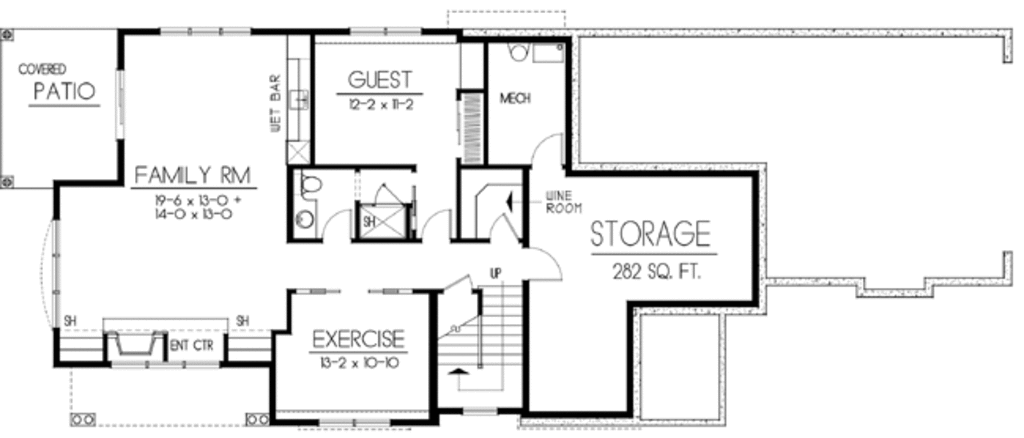door: (525, 242, 565, 283), (321, 208, 360, 243), (527, 131, 563, 167), (421, 207, 455, 241), (487, 213, 520, 246)
small_sink: (292, 200, 316, 241)
stairs: (438, 284, 525, 408)
windows: (40, 218, 62, 328), (108, 359, 220, 372), (155, 23, 255, 36), (344, 24, 425, 38), (114, 69, 127, 146), (316, 416, 395, 427)
